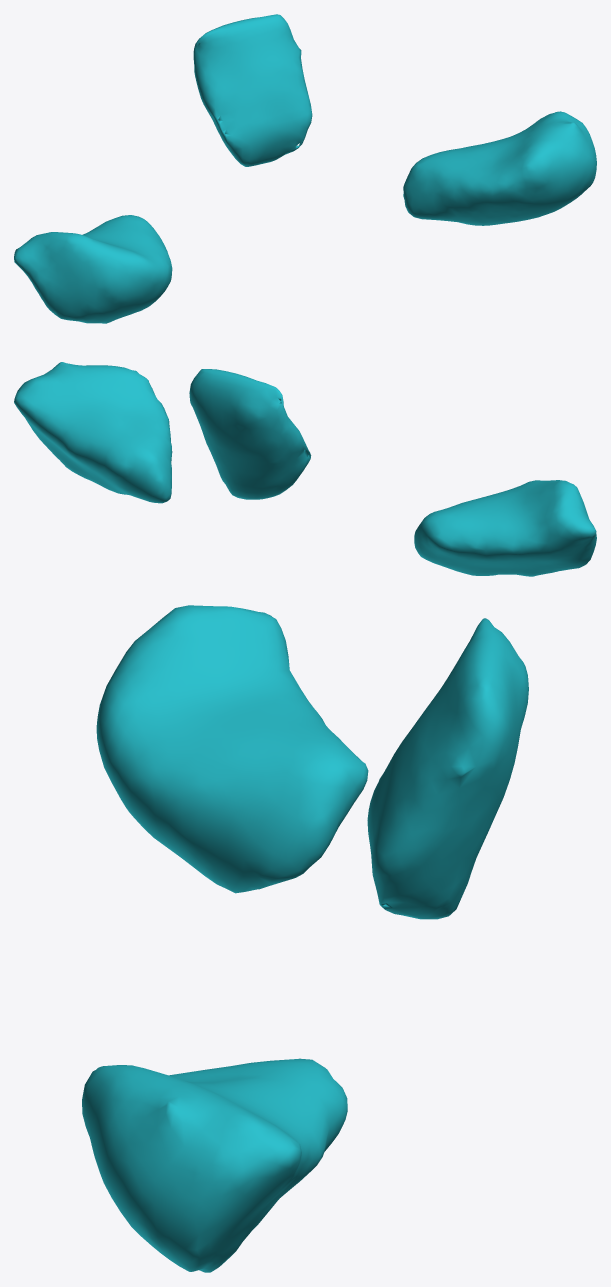
File: cerebellum_flocculonodular.glb
3 renders of one model, top to bottom at view 1: azimuth 30°, elevation 25°; view 2: azimuth 150°, elevation 25°; view 3: azimuth 270°, elevation 25°, orthographic. The views are drawn at different scales.
Parts seen in each view (by area): view 1: Lóbulo Floculonodular (Lobulillo X); view 2: Lóbulo Floculonodular (Lobulillo X); view 3: Lóbulo Floculonodular (Lobulillo X).
Boxes of the visible parts, left/top/right/bottom form: Lóbulo Floculonodular (Lobulillo X): left=14, top=14, right=596, bottom=323; Lóbulo Floculonodular (Lobulillo X): left=14, top=362, right=596, bottom=576; Lóbulo Floculonodular (Lobulillo X): left=82, top=605, right=528, bottom=1272.
Size of the model in its own units: 2.05 by 0.6957 by 0.6994.
